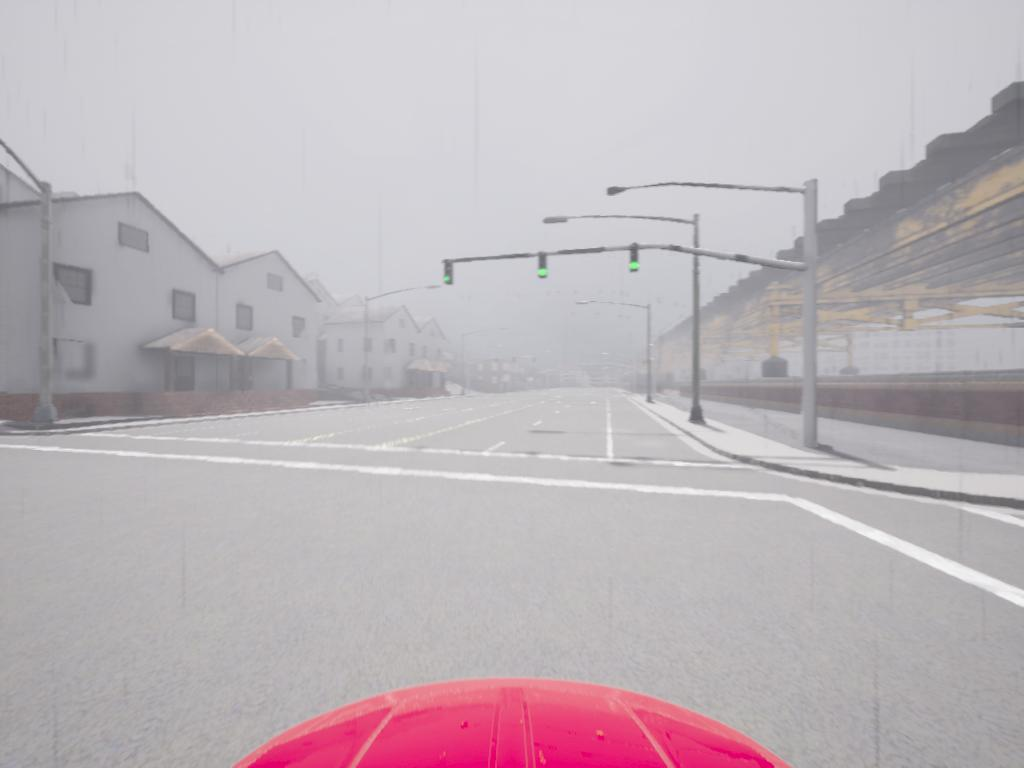traffic_light: (631, 248, 643, 274), (538, 256, 550, 281), (442, 263, 453, 287)
